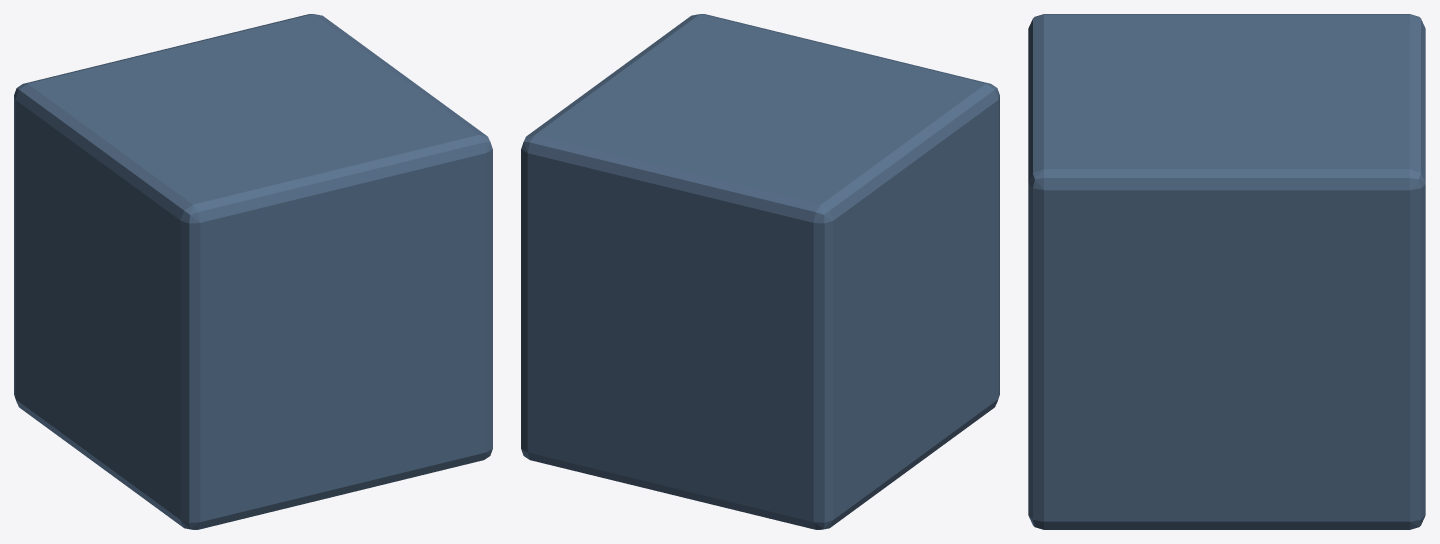
3 renders of one model, left to right at view 1: azimuth 30°, elevation 25°; view 2: azimuth 150°, elevation 25°; view 3: azimuth 270°, elevation 25°, orthographic. The views are drawn at different scales.
Visible parts, largest first — view 1: Cube_M_steel; view 2: Cube_M_steel; view 3: Cube_M_steel.
Part boxes in pixels (x1,y1,x2,y2): Cube_M_steel: (14,14,492,529); Cube_M_steel: (521,14,999,529); Cube_M_steel: (1028,14,1425,529).
Bounding box in the file's own units: 1 × 1 × 1.
